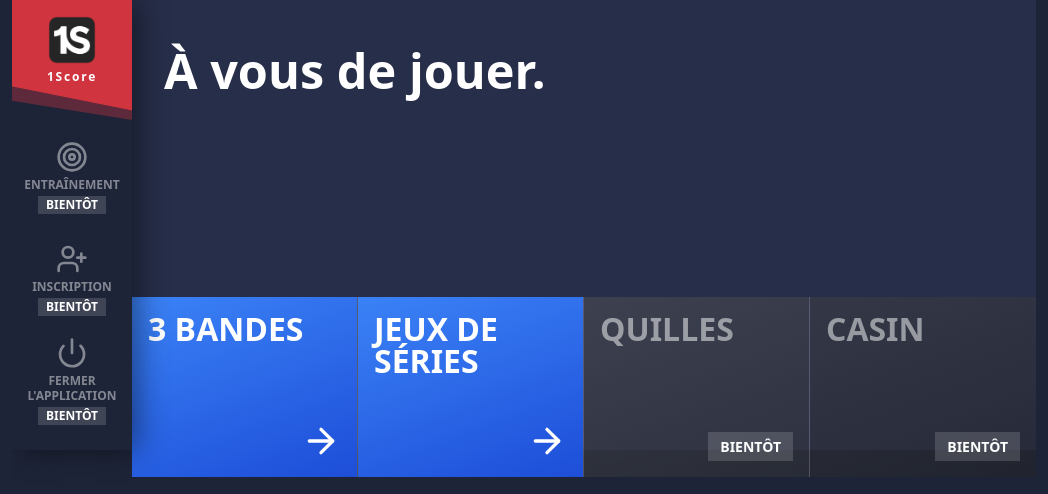
HomeScreen › goes back from the sub-mode step to the category step
Press the mouse on the button with test id "category-series": (471, 387) [358,297,584,477]
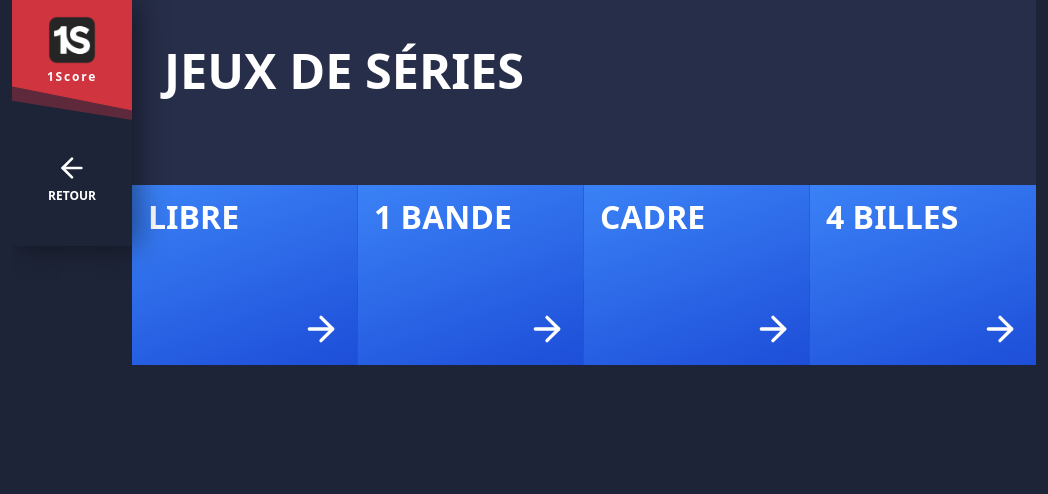
Press the mouse on the button with test id "sidebar-item-back": (72, 177) [12,132,132,222]
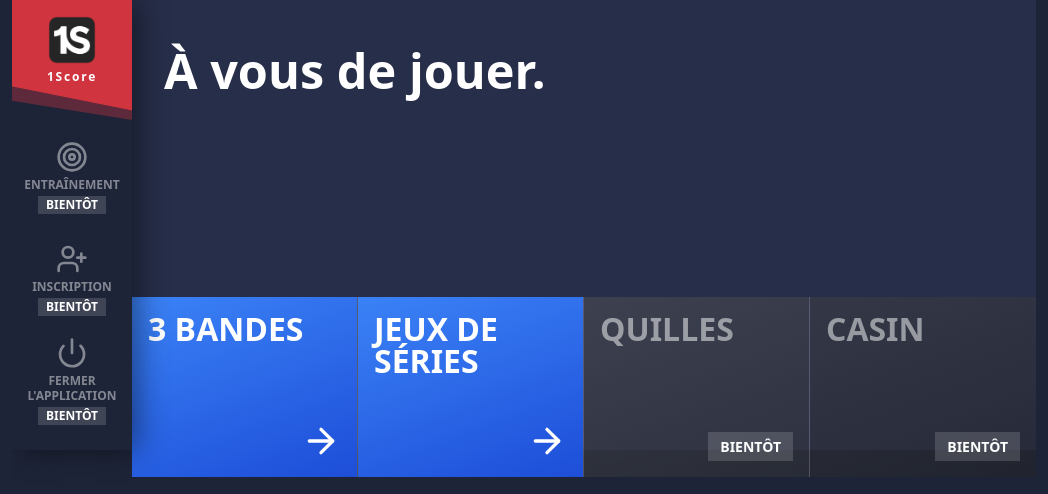
Expected: the element with test id "step-category" is shown
